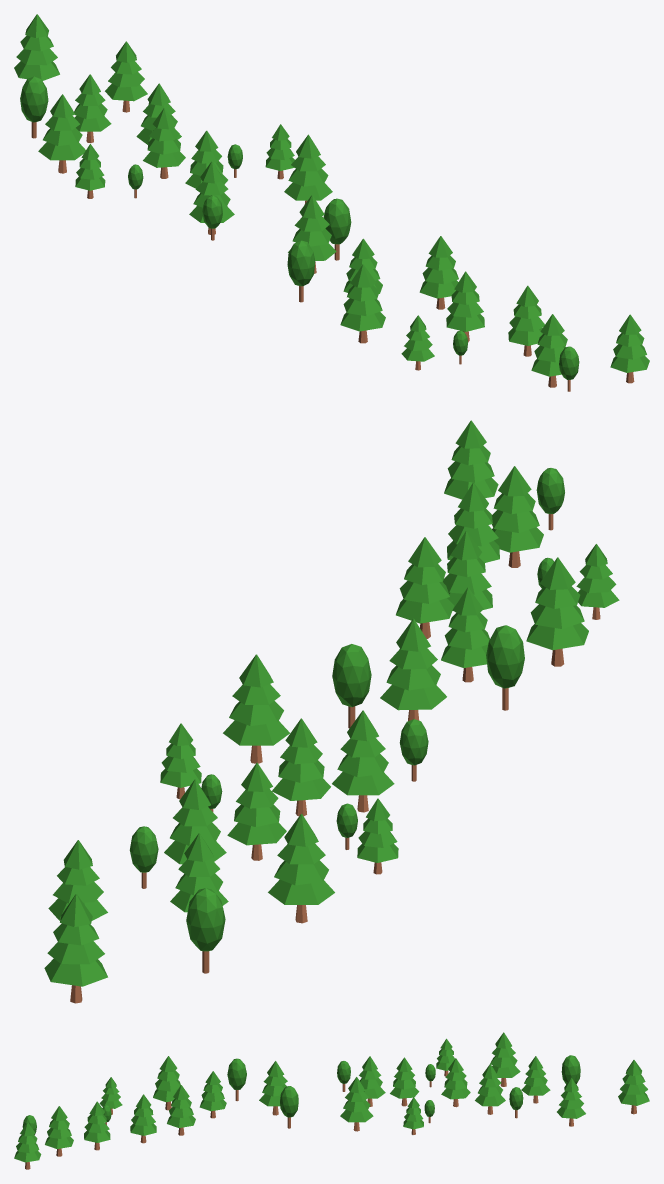
Rendered from movingForest.glb.
The picture shows the model from 3 angles, top to bottom: view 1: azimuth 30°, elevation 25°; view 2: azimuth 150°, elevation 25°; view 3: azimuth 270°, elevation 25°; orthographic projection. The views are drawn at different scales.
Visible parts, largest first — view 1: Cylinder.054, Cylinder.022, Cylinder.016, Cylinder.036, Cylinder.052, Cylinder.019, Cylinder.033, Cylinder.051, Cylinder.055, Cylinder.048, Cylinder.050, Cylinder.049 (+13 smaller); view 2: Cylinder.054, Cylinder.036, Cylinder.016, Cylinder.022, Cylinder.055, Cylinder.013, Cylinder.052, Cylinder.049, Cylinder.019, Cylinder.012, Cylinder.053, Cylinder.020 (+14 smaller); view 3: Cylinder.016, Cylinder.036, Cylinder.022, Cylinder.054, Cylinder.020, Cylinder.049, Cylinder.052, Cylinder.055, Cylinder.019, Cylinder.048, Cylinder.012, Cylinder.033 (+13 smaller).
Boxes of the visible parts, <box> form: Cylinder.054: <box>340,264,385,343</box>; Cylinder.022: <box>38,94,85,173</box>; Cylinder.016: <box>284,134,332,204</box>; Cylinder.036: <box>14,14,59,80</box>; Cylinder.052: <box>419,236,458,309</box>; Cylinder.019: <box>143,108,185,178</box>; Cylinder.033: <box>105,41,147,112</box>; Cylinder.051: <box>446,271,484,342</box>; Cylinder.055: <box>288,195,336,273</box>; Cylinder.048: <box>508,285,544,356</box>; Cylinder.050: <box>610,314,649,383</box>; Cylinder.049: <box>531,314,567,387</box>; Cylinder.054: <box>526,557,588,666</box>; Cylinder.036: <box>44,894,107,1003</box>; Cylinder.016: <box>223,654,289,763</box>; Cylinder.022: <box>268,814,334,923</box>; Cylinder.055: <box>380,618,446,721</box>; Cylinder.013: <box>332,710,394,812</box>; Cylinder.052: <box>396,537,454,638</box>; Cylinder.049: <box>492,466,543,567</box>; Cylinder.019: <box>227,762,286,860</box>; Cylinder.012: <box>272,718,330,816</box>; Cylinder.053: <box>441,587,489,682</box>; Cylinder.020: <box>164,779,226,864</box>; Cylinder.016: <box>340,1077,373,1131</box>; Cylinder.036: <box>618,1060,649,1114</box>; Cylinder.022: <box>490,1032,520,1086</box>; Cylinder.054: <box>153,1056,180,1110</box>; Cylinder.020: <box>475,1064,505,1114</box>; Cylinder.049: <box>45,1106,73,1156</box>; Cylinder.052: <box>167,1085,195,1135</box>; Cylinder.055: <box>259,1061,287,1115</box>; Cylinder.019: <box>441,1058,470,1107</box>; Cylinder.048: <box>84,1101,110,1150</box>; Cylinder.012: <box>390,1057,419,1106</box>; Cylinder.033: <box>557,1077,585,1126</box>.
Bounding box in the file's own units: 49.75 × 17.72 × 148.
